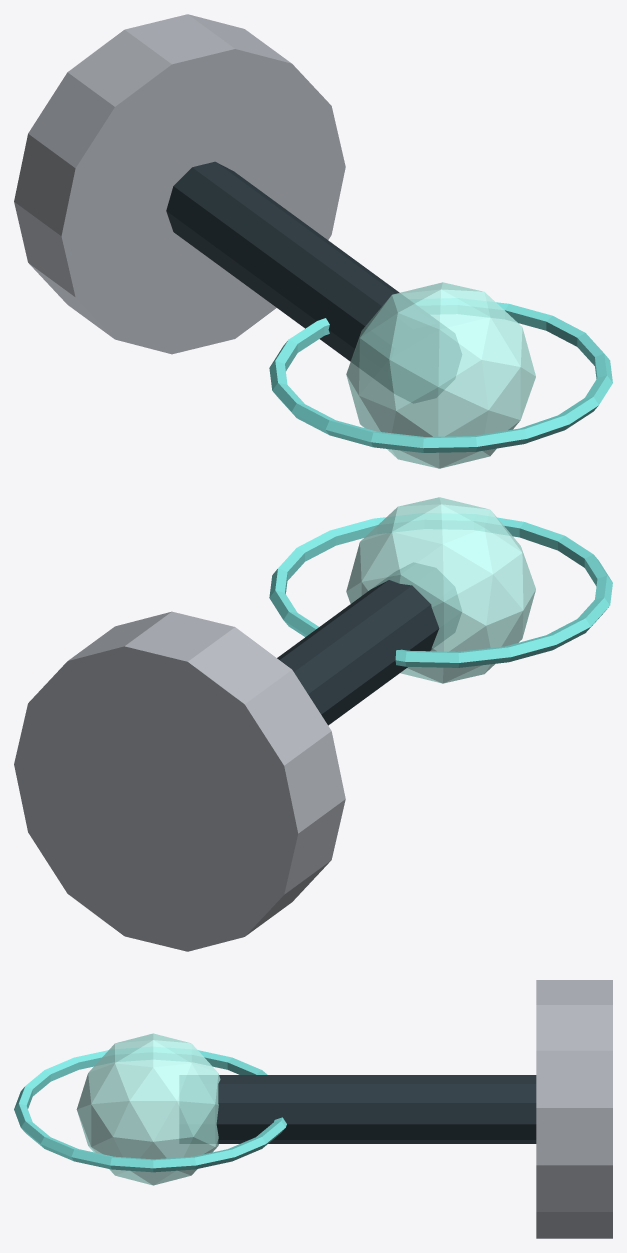
The model's file is 03_world_landmark_light.glb.
The picture shows the model from 3 angles, top to bottom: view 1: azimuth 30°, elevation 25°; view 2: azimuth 150°, elevation 25°; view 3: azimuth 270°, elevation 25°; orthographic projection. The views are drawn at different scales.
Visible parts, largest first — view 1: light_base, light_column, light_core, light_halo; view 2: light_base, light_core, light_column, light_halo; view 3: light_column, light_base, light_core, light_halo.
Boxes of the visible parts, x1,y1,x2,y2 form: light_base: (14,14,345,354); light_column: (166,161,461,402); light_core: (346,282,535,468); light_halo: (269,298,612,452); light_base: (14,611,345,951); light_core: (346,497,535,683); light_column: (277,563,461,725); light_halo: (269,513,612,667); light_column: (180,1075,536,1143); light_base: (536,980,612,1238); light_core: (76,1033,220,1185); light_halo: (14,1047,286,1172).
Bounding box in the file's own units: 0.8 × 0.7409 × 1.72.
